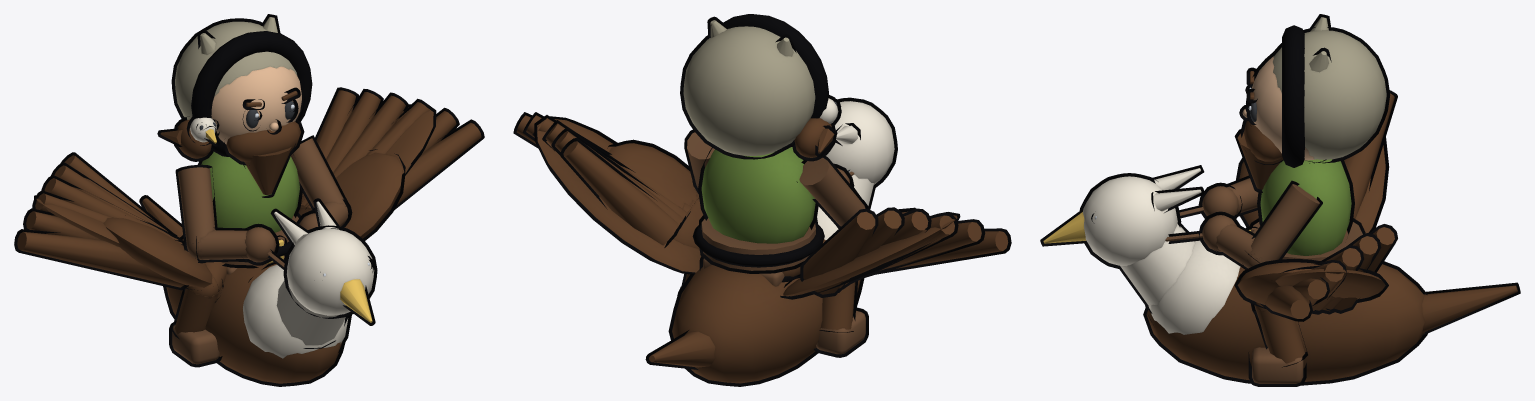
Rendered from beast_tamer_s2.fbx.
3 views of the same model, side by side, from view 1: azimuth 30°, elevation 25°; view 2: azimuth 150°, elevation 25°; view 3: azimuth 270°, elevation 25° (orthographic). The views are drawn at different scales.
Visible parts, largest first — view 1: beast_tamer_s2; view 2: beast_tamer_s2; view 3: beast_tamer_s2.
Boxes of the visible parts, <box> form: beast_tamer_s2: <box>14,14,484,386</box>; beast_tamer_s2: <box>513,14,1011,386</box>; beast_tamer_s2: <box>1040,14,1520,386</box>.
Bounding box in the file's own units: 1.97 × 1.35 × 1.69.
Materials: 1 (1 with a texture image).
